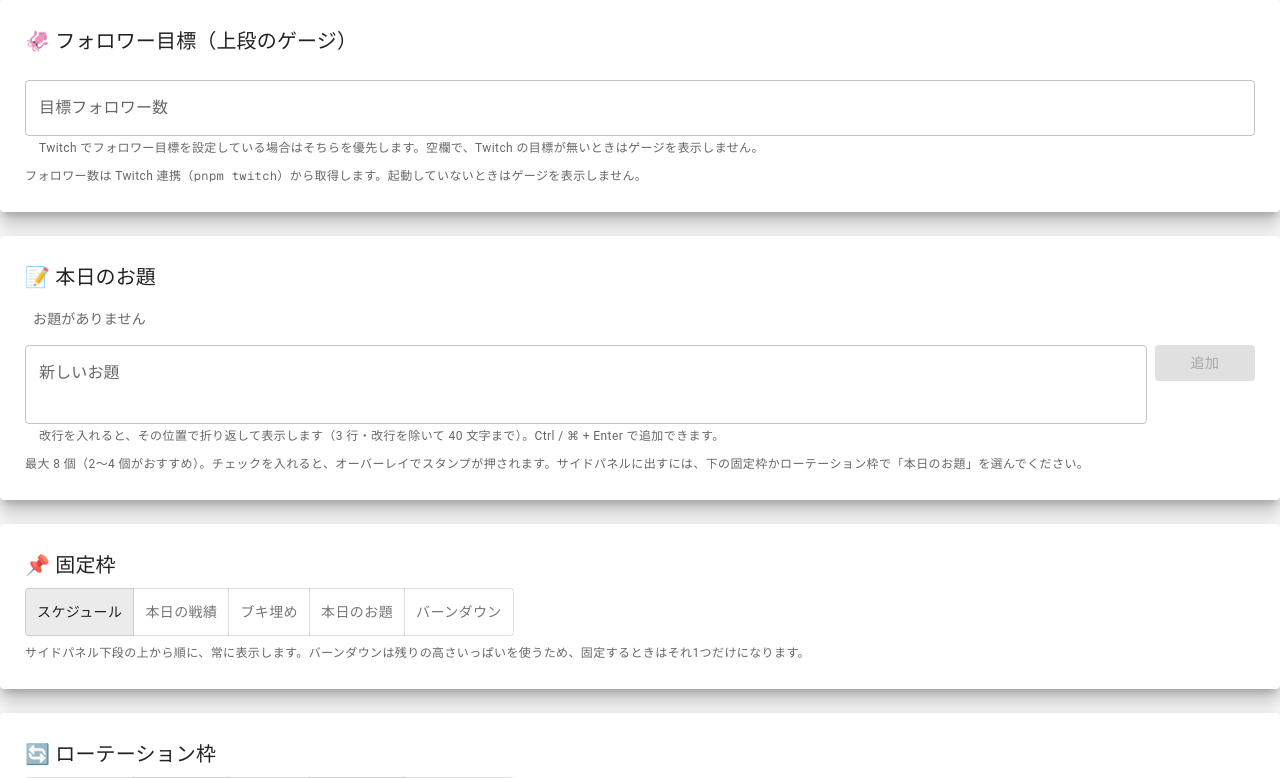
SidePanelSettingsPanel › moves a rotating slot to the fixed area
Expected: the heading "📌 固定枠" is shown, [25,553,116,577]
What coordinates should you click on to do the following:
click the button "本日の戦績" below "📌 固定枠"
I would click on:
 (181, 612)
Its box is [133,588,229,636].
(page scrolled)
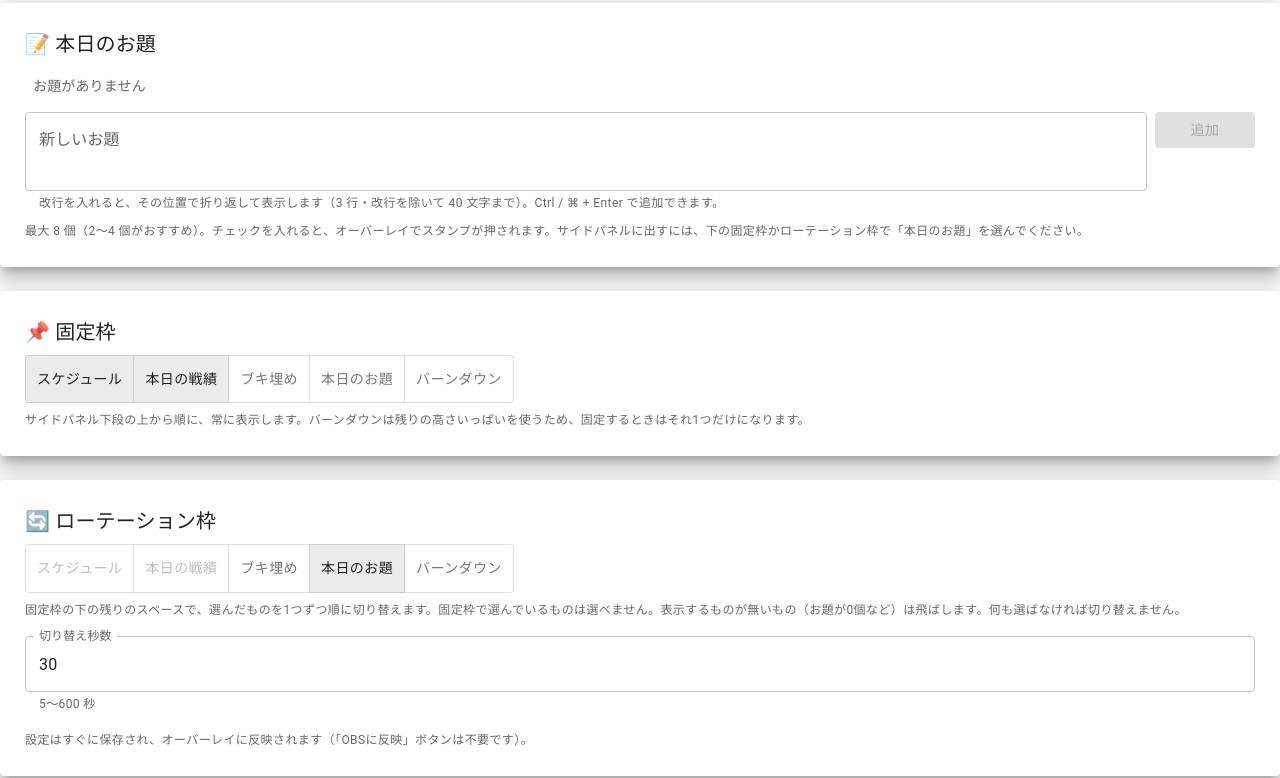
Expected: the button "本日の戦績" below "🔄 ローテーション枠" is disabled, [133,544,229,592]
